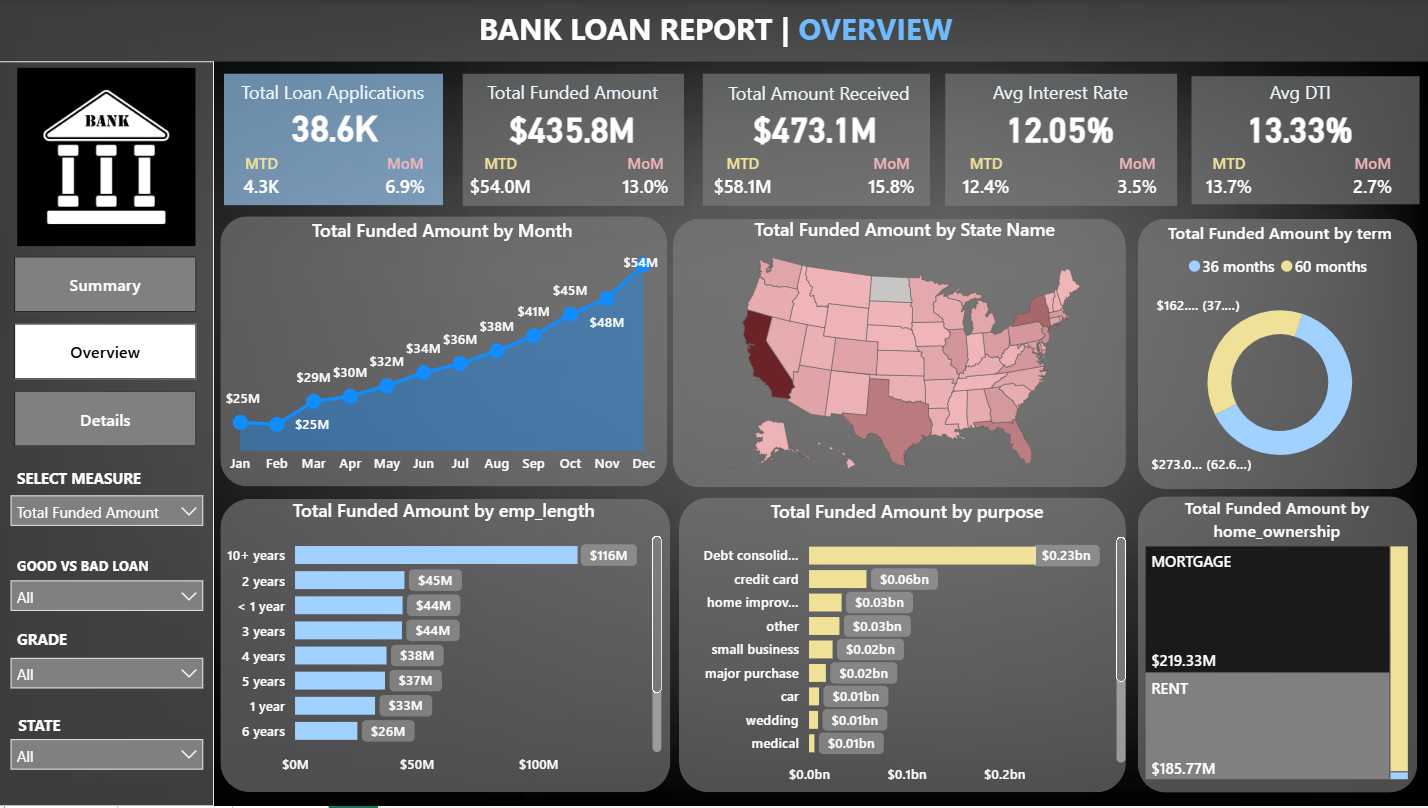

This screenshot's page, from the dashboard's own definition file:
{"tool":"powerbi","page":{"name":"Overview","canvas":[1280,720],"ordinal":1},"visuals":[{"type":"shape","box":[414.4,65.9,197.6,118],"z":0,"group":"g3"},{"type":"shape","box":[628.5,65.9,203,118],"z":0,"group":"g4"},{"type":"shape","box":[845.3,65.9,207.1,118],"z":0,"group":"g5"},{"type":"shape","box":[201,66.1,195.6,117.4],"z":0,"group":"g2"},{"type":"shape","box":[1065.2,68.7,203.7,114.7],"z":0,"group":"g6"},{"type":"shape","box":[602.4,194.9,404.8,240.1],"z":0},{"type":"shape","box":[197.6,193.5,399.3,241.5],"z":500,"group":"g7"},{"type":"shape","box":[0,0,1280.3,55],"z":1000},{"type":"card","fields":{"Values":["bank_loan_data.Total Loan Applications"]},"box":[202.6,91.6,195.6,43.2],"z":1000,"group":"g2"},{"type":"card","fields":{"Values":["bank_loan_data.Total Funded Amount"]},"box":[413,93,197.6,43.4],"z":1000,"group":"g3"},{"type":"card","fields":{"Values":["bank_loan_data.Total Amount Received"]},"box":[627.1,93,203,43.4],"z":1000,"group":"g4"},{"type":"card","fields":{"Values":["bank_loan_data.Avg Interest Rate"]},"box":[843.9,93,207.1,43.4],"z":1000,"group":"g5"},{"type":"card","fields":{"Values":["bank_loan_data.Avg DTI"]},"box":[1064.4,93.1,195.6,43.2],"z":1000,"group":"g6"},{"type":"shape","box":[0,54.9,192.1,665.5],"z":2000},{"type":"textbox","box":[414.4,65.9,196.2,38],"z":2000,"group":"g3"},{"type":"textbox","box":[845.3,65.9,205.7,38],"z":2000,"group":"g5"},{"type":"textbox","box":[201,66.1,194.3,37.8],"z":2000,"group":"g2"},{"type":"textbox","box":[1065.7,66.1,194.3,37.8],"z":2000,"group":"g6"},{"type":"textbox","box":[630.9,67.1,203,35.3],"z":2000,"group":"g4"},{"type":"textbox","box":[385.8,2.7,507.3,47.2],"z":3000},{"type":"card","title":"MTD","fields":{"Values":["bank_loan_data.MTD Loan Applications"]},"box":[202.3,136.3,64.8,47.2],"z":3000,"group":"g2"},{"type":"card","title":"MTD","fields":{"Values":["bank_loan_data.MTD Avg DTI"]},"box":[1067.1,136.3,64.8,47.2],"z":3000,"group":"g6"},{"type":"card","title":"MTD","fields":{"Values":["bank_loan_data.MTD Funded Amount"]},"box":[415.7,136.4,65.4,47.5],"z":3000,"group":"g3"},{"type":"card","title":"MTD","fields":{"Values":["bank_loan_data.MTD Amount Received"]},"box":[629.9,136.4,67.2,47.5],"z":3000,"group":"g4"},{"type":"card","title":"MTD","fields":{"Values":["bank_loan_data.MTD Avg Interest Rate"]},"box":[846.8,136.4,68.6,47.5],"z":3000,"group":"g5"},{"type":"group","id":"g1","title":"Group 1","box":[201,66.1,197,117.4],"z":4000},{"type":"card","title":"MoM","fields":{"Values":["bank_loan_data.MoM Loan Applications"]},"box":[330.5,136.3,64.8,47.2],"z":4000,"group":"g2"},{"type":"card","title":"MoM","fields":{"Values":["bank_loan_data.MoM Avg DTI"]},"box":[1195.3,136.3,64.8,47.2],"z":4000,"group":"g6"},{"type":"card","title":"MoM","fields":{"Values":["bank_loan_data.MoM Funded Amount"]},"box":[545.2,136.4,65.4,47.5],"z":4000,"group":"g3"},{"type":"card","title":"MoM","fields":{"Values":["bank_loan_data.MoM Amount Received"]},"box":[762.9,136.4,67.2,47.5],"z":4000,"group":"g4"},{"type":"card","title":"MoM","fields":{"Values":["bank_loan_data.MoM Avg Interest Rate"]},"box":[982.5,136.4,68.6,47.5],"z":4000,"group":"g5"},{"type":"group","id":"g2","title":"Group 2","box":[201,66.1,197.2,117.4],"z":4005,"group":"g1"},{"type":"group","id":"g3","title":"Group 2","box":[413,65.9,199,118],"z":5000},{"type":"group","id":"g4","title":"Group 2","box":[627.1,65.9,207.2,118],"z":6000},{"type":"group","id":"g5","title":"Group 2","box":[843.9,65.9,208.6,118],"z":7000},{"type":"group","id":"g6","title":"Group 2","box":[1064.4,66.1,204.5,117.4],"z":8000},{"type":"slicer","fields":{"Values":["bank_loan_data.address_state"]},"box":[0,650.4,192.1,50.8],"z":9000},{"type":"textbox","box":[12.3,634,123.5,32.9],"z":10000},{"type":"slicer","fields":{"Values":["bank_loan_data.grade"]},"box":[0,577.7,192.1,49.4],"z":11000},{"type":"textbox","box":[11,491.3,163.3,32.9],"z":12000},{"type":"textbox","box":[11,557.1,123.5,30.2],"z":13000},{"type":"slicer","fields":{"Values":["bank_loan_data.Good vs Bad Loan"]},"box":[0,507.7,192.1,49.4],"z":14000},{"type":"areaChart","fields":{"Y":["bank_loan_data.Total Funded Amount"],"Category":["Date Table.Month"]},"box":[197.6,194.8,396.6,237.6],"z":15000,"group":"g7"},{"type":"slicer","fields":{"Values":["Select Measure.Select Measure"]},"box":[0,432.2,192.1,48],"z":15000},{"type":"textbox","box":[11,413,163.3,30.2],"z":16000},{"type":"shapeMap","fields":{"Value":["bank_loan_data.Total Funded Amount"],"Category":["bank_loan_data.State_FullName"]},"box":[610.6,193.5,396.6,241.5],"z":17000},{"type":"group","id":"g7","title":"Group 3","box":[197.6,193.5,399.3,241.5],"z":18000},{"type":"shape","box":[1016.8,194.9,249.7,241.5],"z":19000},{"type":"shape","box":[197.6,446,402.1,262.1],"z":20000},{"type":"shape","box":[607.9,444.6,399.3,263.5],"z":21000},{"type":"shape","box":[1016.8,443.2,249.7,264.8],"z":22000},{"type":"donutChart","fields":{"Y":["bank_loan_data.Total Funded Amount"],"Category":["bank_loan_data.term"]},"box":[1019.6,197.6,249.7,238.8],"z":23000},{"type":"barChart","fields":{"Y":["bank_loan_data.Total Funded Amount"],"Category":["bank_loan_data.emp_length"]},"box":[197.6,444.6,399.3,256.6],"z":24000},{"type":"barChart","fields":{"Y":["bank_loan_data.Total Funded Amount"],"Category":["bank_loan_data.purpose"]},"box":[610.6,446,400.7,264.8],"z":25000},{"type":"treemap","fields":{"Values":["bank_loan_data.Total Funded Amount"],"Group":["bank_loan_data.home_ownership"]},"box":[1019.6,443.2,244.3,258],"z":26000},{"type":"pageNavigator","box":[13.7,229.2,163.3,170.2],"z":26001},{"type":"image","box":[6.7,55.3,178.1,168.6],"z":26002}]}

Visuals, with their boxes on the page's 1280x720 design canvas (x1, y1, x2, y2). These are canvas units, not pixel positions in the 1428x808 screenshot, which may show the page scaled, cropped or inside an application window:
shape: <box>414,66,612,184</box>
shape: <box>628,66,832,184</box>
shape: <box>845,66,1052,184</box>
shape: <box>201,66,397,184</box>
shape: <box>1065,69,1269,183</box>
shape: <box>602,195,1007,435</box>
shape: <box>198,194,597,435</box>
shape: <box>0,0,1280,55</box>
card - bank_loan_data.Total Loan Applications: <box>203,92,398,135</box>
card - bank_loan_data.Total Funded Amount: <box>413,93,611,136</box>
card - bank_loan_data.Total Amount Received: <box>627,93,830,136</box>
card - bank_loan_data.Avg Interest Rate: <box>844,93,1051,136</box>
card - bank_loan_data.Avg DTI: <box>1064,93,1260,136</box>
shape: <box>0,55,192,720</box>
textbox: <box>414,66,611,104</box>
textbox: <box>845,66,1051,104</box>
textbox: <box>201,66,395,104</box>
textbox: <box>1066,66,1260,104</box>
textbox: <box>631,67,834,102</box>
textbox: <box>386,3,893,50</box>
"MTD" card: <box>202,136,267,184</box>
"MTD" card: <box>1067,136,1132,184</box>
"MTD" card: <box>416,136,481,184</box>
"MTD" card: <box>630,136,697,184</box>
"MTD" card: <box>847,136,915,184</box>
"Group 1" group: <box>201,66,398,184</box>
"MoM" card: <box>330,136,395,184</box>
"MoM" card: <box>1195,136,1260,184</box>
"MoM" card: <box>545,136,611,184</box>
"MoM" card: <box>763,136,830,184</box>
"MoM" card: <box>982,136,1051,184</box>
"Group 2" group: <box>201,66,398,184</box>
"Group 2" group: <box>413,66,612,184</box>
"Group 2" group: <box>627,66,834,184</box>
"Group 2" group: <box>844,66,1052,184</box>
"Group 2" group: <box>1064,66,1269,184</box>
slicer - bank_loan_data.address_state: <box>0,650,192,701</box>
textbox: <box>12,634,136,667</box>
slicer - bank_loan_data.grade: <box>0,578,192,627</box>
textbox: <box>11,491,174,524</box>
textbox: <box>11,557,134,587</box>
slicer - bank_loan_data.Good vs Bad Loan: <box>0,508,192,557</box>
areaChart - bank_loan_data.Total Funded Amount x Date Table.Month: <box>198,195,594,432</box>
slicer - Select Measure.Select Measure: <box>0,432,192,480</box>
textbox: <box>11,413,174,443</box>
shapeMap - bank_loan_data.Total Funded Amount x bank_loan_data.State_FullName: <box>611,194,1007,435</box>
"Group 3" group: <box>198,194,597,435</box>
shape: <box>1017,195,1266,436</box>
shape: <box>198,446,600,708</box>
shape: <box>608,445,1007,708</box>
shape: <box>1017,443,1266,708</box>
donutChart - bank_loan_data.Total Funded Amount x bank_loan_data.term: <box>1020,198,1269,436</box>
barChart - bank_loan_data.Total Funded Amount x bank_loan_data.emp_length: <box>198,445,597,701</box>
barChart - bank_loan_data.Total Funded Amount x bank_loan_data.purpose: <box>611,446,1011,711</box>
treemap - bank_loan_data.Total Funded Amount x bank_loan_data.home_ownership: <box>1020,443,1264,701</box>
pageNavigator: <box>14,229,177,399</box>
image: <box>7,55,185,224</box>
